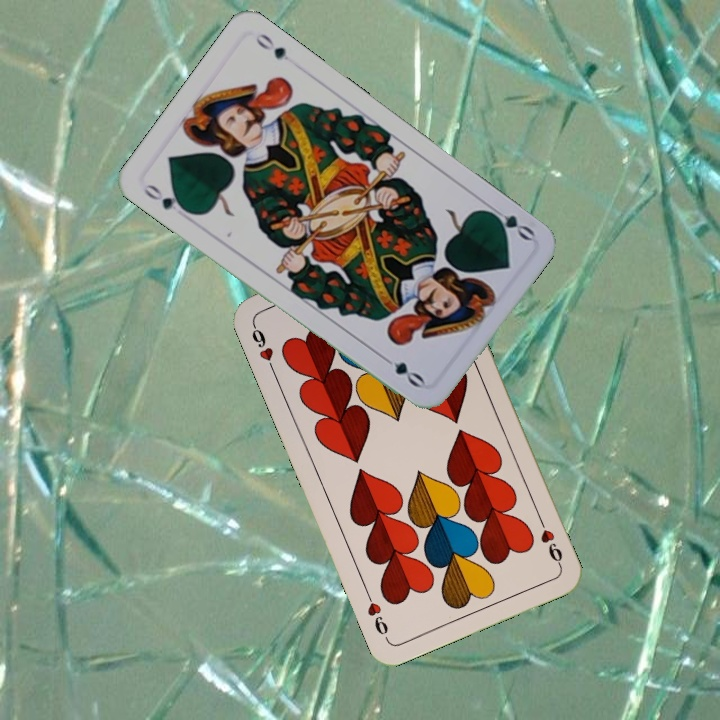GO: (481, 200, 537, 244), (139, 180, 193, 216)
H9: (534, 513, 565, 569), (247, 319, 278, 375)
